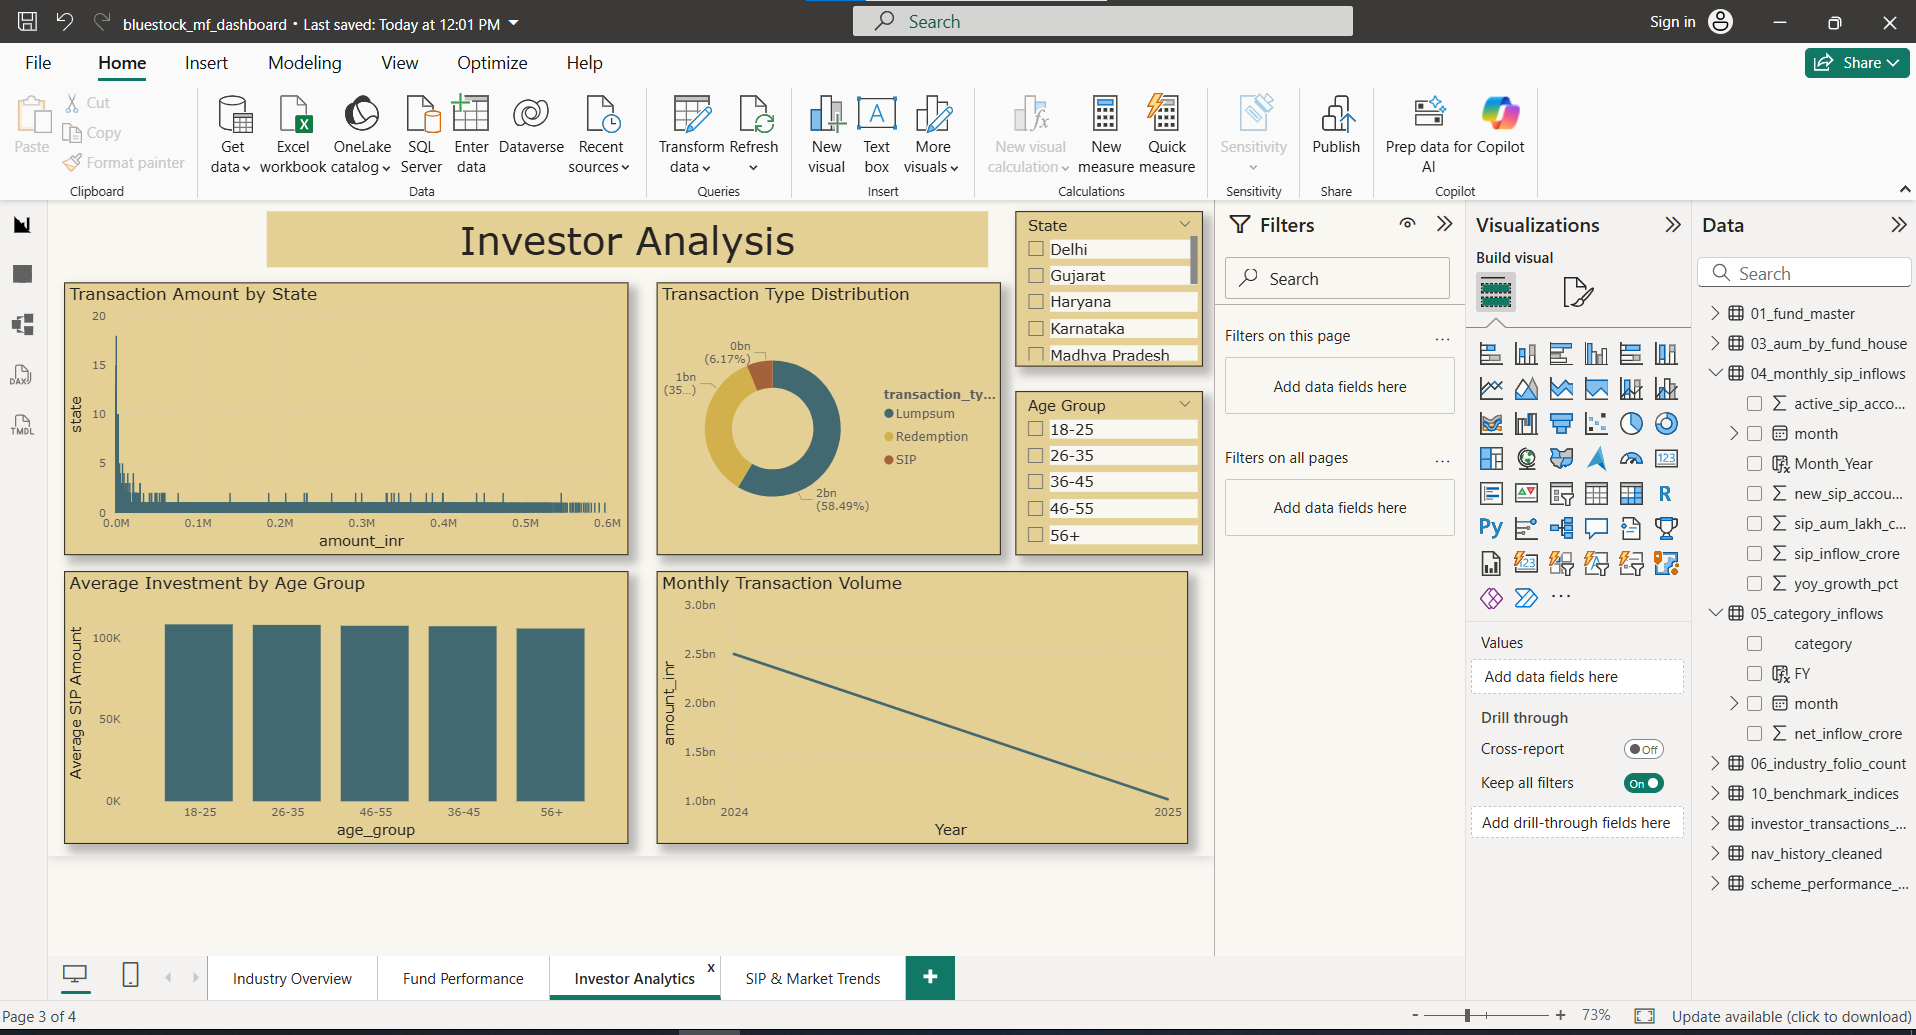

The dashboard page shown, as its layout file describes it:
{"tool":"powerbi","page":{"name":"Investor Analytics","canvas":[1280,720],"ordinal":2},"visuals":[{"type":"textbox","box":[240.1,12.3,791.8,61.7],"z":0},{"type":"clusteredColumnChart","title":"Transaction Amount by State","fields":{"Y":["CountNonNull(investor_transactions_cleaned.state)"],"Category":["investor_transactions_cleaned.amount_inr"]},"box":[17.8,90.6,618.9,299.1],"z":1},{"type":"donutChart","title":"Transaction Type Distribution","fields":{"Category":["investor_transactions_cleaned.transaction_type"],"Y":["Sum(investor_transactions_cleaned.amount_inr)"]},"box":[668.3,90.6,377.4,299.1],"z":2},{"type":"clusteredColumnChart","title":"Average Investment by Age Group","fields":{"Category":["investor_transactions_cleaned.age_group"],"Y":["investor_transactions_cleaned.Average SIP Amount"]},"box":[17.8,407.5,618.9,299.1],"z":3},{"type":"lineChart","title":"Monthly Transaction Volume","fields":{"Category":["investor_transactions_cleaned.transaction_date.Variation.Date Hierarchy.Year","investor_transactions_cleaned.transaction_date.Variation.Date Hierarchy.Month","investor_transactions_cleaned.transaction_date.Variation.Date Hierarchy.Day"],"Y":["Sum(investor_transactions_cleaned.amount_inr)"]},"box":[668.3,407.5,583.2,299.1],"z":4},{"type":"slicer","fields":{"Values":["investor_transactions_cleaned.state"]},"box":[1062.1,12.3,205.8,170.2],"z":5},{"type":"slicer","fields":{"Values":["investor_transactions_cleaned.age_group"]},"box":[1062.1,209.9,205.8,179.8],"z":6}]}

Visuals, with their boxes on the page's 1280x720 design canvas (x1, y1, x2, y2). These are canvas units, not pixel positions in the 1916x1035 screenshot, which may show the page scaled, cropped or inside an application window:
textbox: rect(240, 12, 1032, 74)
"Transaction Amount by State" clusteredColumnChart: rect(18, 91, 637, 390)
"Transaction Type Distribution" donutChart: rect(668, 91, 1046, 390)
"Average Investment by Age Group" clusteredColumnChart: rect(18, 408, 637, 707)
"Monthly Transaction Volume" lineChart: rect(668, 408, 1252, 707)
slicer - investor_transactions_cleaned.state: rect(1062, 12, 1268, 182)
slicer - investor_transactions_cleaned.age_group: rect(1062, 210, 1268, 390)
